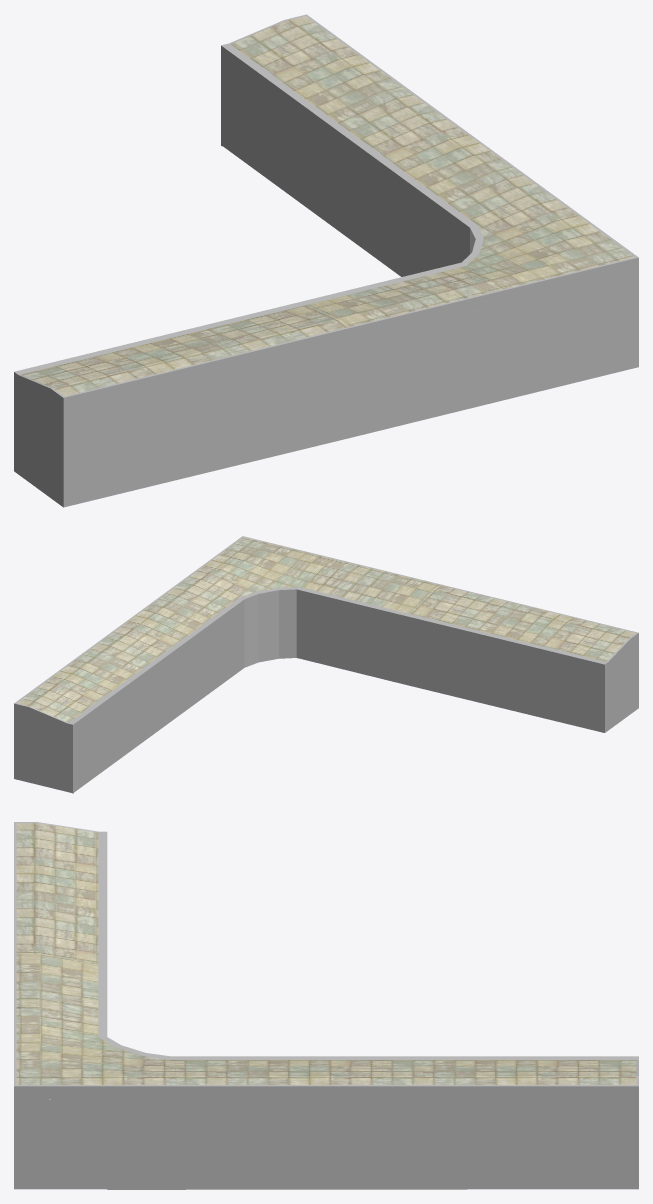
File: road_02_cv_out_hedge.fbx
3 views of the same model, one above another, from view 1: azimuth 30°, elevation 25°; view 2: azimuth 150°, elevation 25°; view 3: azimuth 270°, elevation 25° (orthographic). The views are drawn at different scales.
Parts seen in each view (by area): view 1: road_02_cv_out_hedge; view 2: road_02_cv_out_hedge; view 3: road_02_cv_out_hedge.
Part boxes in pixels (x1,y1,x2,y2): road_02_cv_out_hedge: (14,14,638,507); road_02_cv_out_hedge: (14,536,638,793); road_02_cv_out_hedge: (14,822,638,1189).
Size of the model in its own units: 12 by 2.2 by 12.
